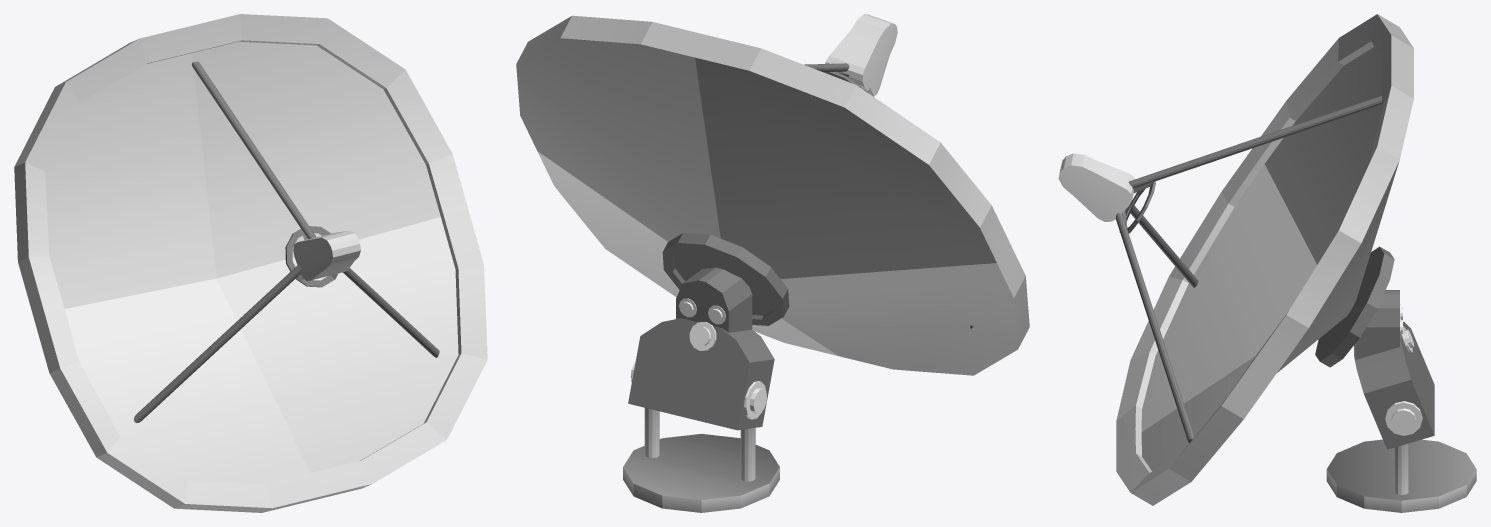
Rendered from SM_Int_Antenna.fbx.
3 renders of one model, left to right at view 1: azimuth 30°, elevation 25°; view 2: azimuth 150°, elevation 25°; view 3: azimuth 270°, elevation 25°, orthographic. The views are drawn at different scales.
Visible parts, largest first — view 1: SM_Int_Antenna; view 2: SM_Int_Antenna; view 3: SM_Int_Antenna.
Boxes of the visible parts, x1,y1,x2,y2 form: SM_Int_Antenna: (14,14,487,512); SM_Int_Antenna: (516,14,1029,512); SM_Int_Antenna: (1058,14,1476,512).
Size of the model in its own units: 80.95 by 74.16 by 66.77.
